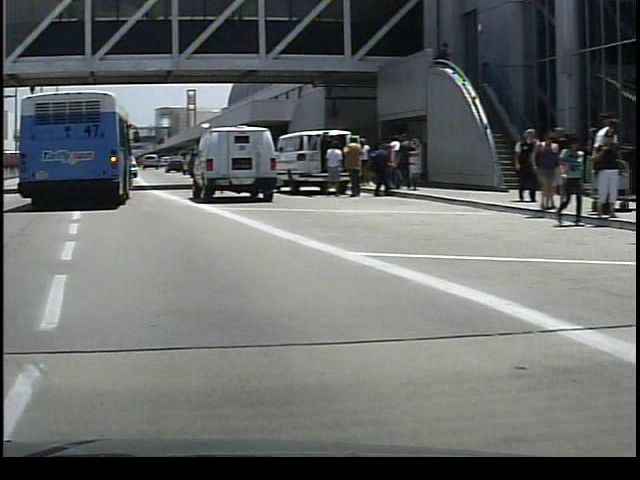person: (584, 117, 620, 221), (590, 127, 626, 218), (317, 134, 340, 196), (339, 138, 361, 199)
